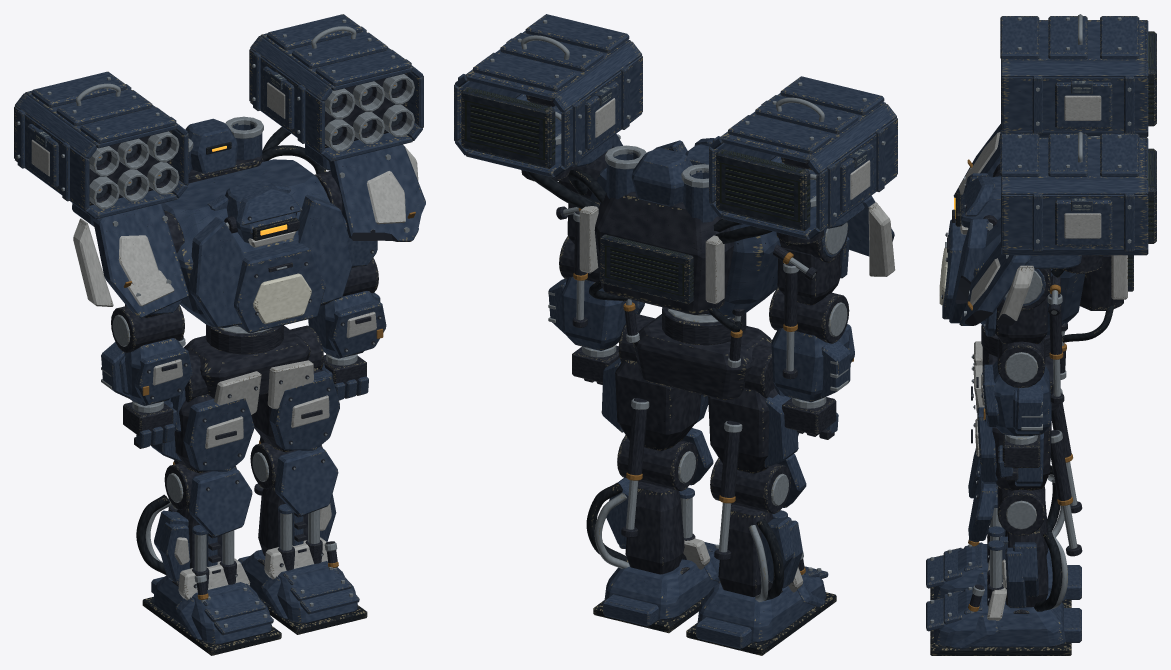
File: basilisk.glb
3 views of the same model, side by side, from view 1: azimuth 30°, elevation 25°; view 2: azimuth 150°, elevation 25°; view 3: azimuth 270°, elevation 25° (orthographic). The views are drawn at different scales.
Visible parts, largest first — view 1: spine.geometry, knee.R.geometry, pauldron.R.geometry, knee.L.geometry, ankle.R.geometry, pauldron.L.geometry, ankle.L.geometry, elbow.R.geometry, pelvis.geometry, hip.R.geometry, hip.L.geometry, elbow.L.geometry (+5 smaller); view 2: spine.geometry, knee.L.geometry, knee.R.geometry, ankle.R.geometry, elbow.R.geometry, ankle.L.geometry, pelvis.geometry, hip.R.geometry, hip.L.geometry, elbow.L.geometry, shoulder.R.geometry, pauldron.R.geometry (+6 smaller); view 3: spine.geometry, knee.L.geometry, ankle.L.geometry, elbow.L.geometry, pauldron.L.geometry, ankle.R.geometry, hip.L.geometry, shoulder.L.geometry, neck.geometry, wrist.L.geometry, knee.R.geometry, pauldron.R.geometry (+6 smaller).
Boxes of the visible parts, x1,y1,x2,y2 form: spine.geometry: (14,14,423,354); knee.R.geometry: (136,463,252,589); pauldron.R.geometry: (72,197,188,318); knee.L.geometry: (250,442,338,570); ankle.R.geometry: (142,558,281,655); pauldron.L.geometry: (304,134,425,241); ankle.L.geometry: (238,537,367,634); elbow.R.geometry: (101,305,192,405); pelvis.geometry: (170,325,325,432); hip.R.geometry: (151,353,254,473); hip.L.geometry: (251,325,339,452); elbow.L.geometry: (308,258,386,358); spine.geometry: (454,14,897,345); knee.L.geometry: (586,428,713,574); knee.R.geometry: (710,454,806,602); ankle.R.geometry: (686,566,836,655); elbow.R.geometry: (769,287,854,402); ankle.L.geometry: (593,538,719,633); pelvis.geometry: (633,314,789,400); hip.R.geometry: (708,344,798,473); hip.L.geometry: (601,314,708,451); elbow.L.geometry: (548,236,644,350); shoulder.R.geometry: (777,222,849,305); pauldron.R.geometry: (810,174,895,276); spine.geometry: (939,14,1156,357); knee.L.geometry: (968,474,1067,611); ankle.L.geometry: (926,579,1081,655); elbow.L.geometry: (976,338,1051,436); pauldron.L.geometry: (959,242,1081,325); ankle.R.geometry: (926,536,1081,607); hip.L.geometry: (971,405,1051,490); shoulder.L.geometry: (984,269,1050,344); neck.geometry: (952,176,1000,234); wrist.L.geometry: (998,434,1040,480); knee.R.geometry: (968,448,1064,563); pauldron.R.geometry: (953,124,1000,197).
Bounding box in the file's own units: 5.06 × 7.29 × 2.82.
3 materials, 1 textured.
